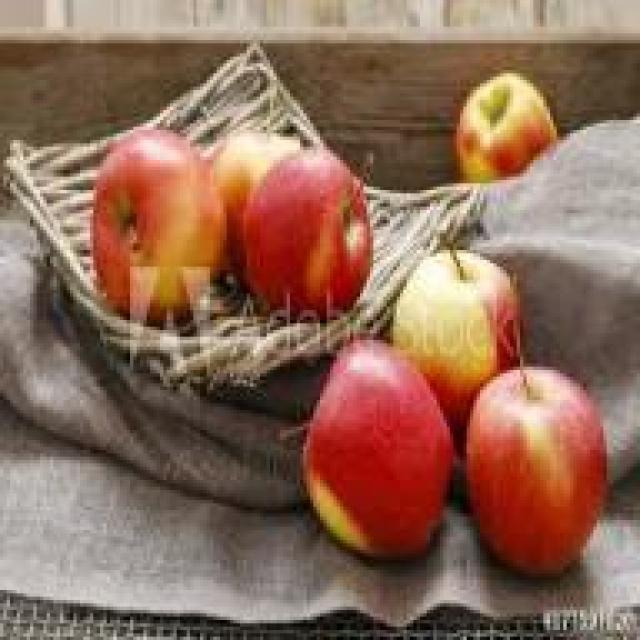apple: (314, 320, 454, 560), (470, 343, 610, 577), (240, 126, 377, 316), (96, 130, 226, 327), (397, 237, 523, 410), (204, 117, 314, 293), (456, 70, 556, 207)
